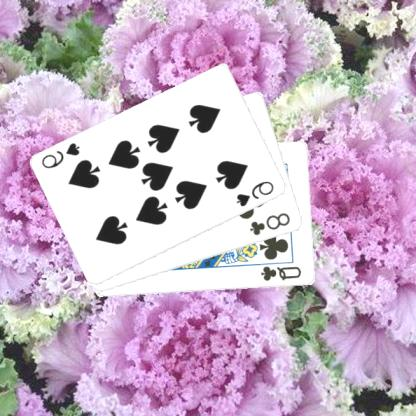8C: (249, 210, 294, 237)
9S: (235, 178, 278, 209), (41, 140, 84, 170)
QC: (260, 264, 305, 283)
